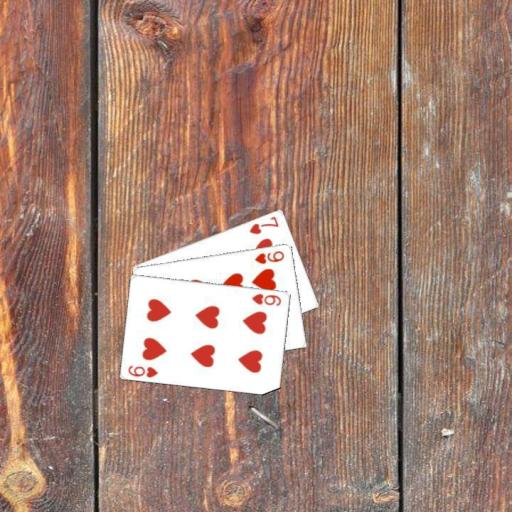card-corner: (246, 212, 280, 236), (252, 248, 286, 266), (249, 290, 283, 307), (125, 362, 159, 379)
